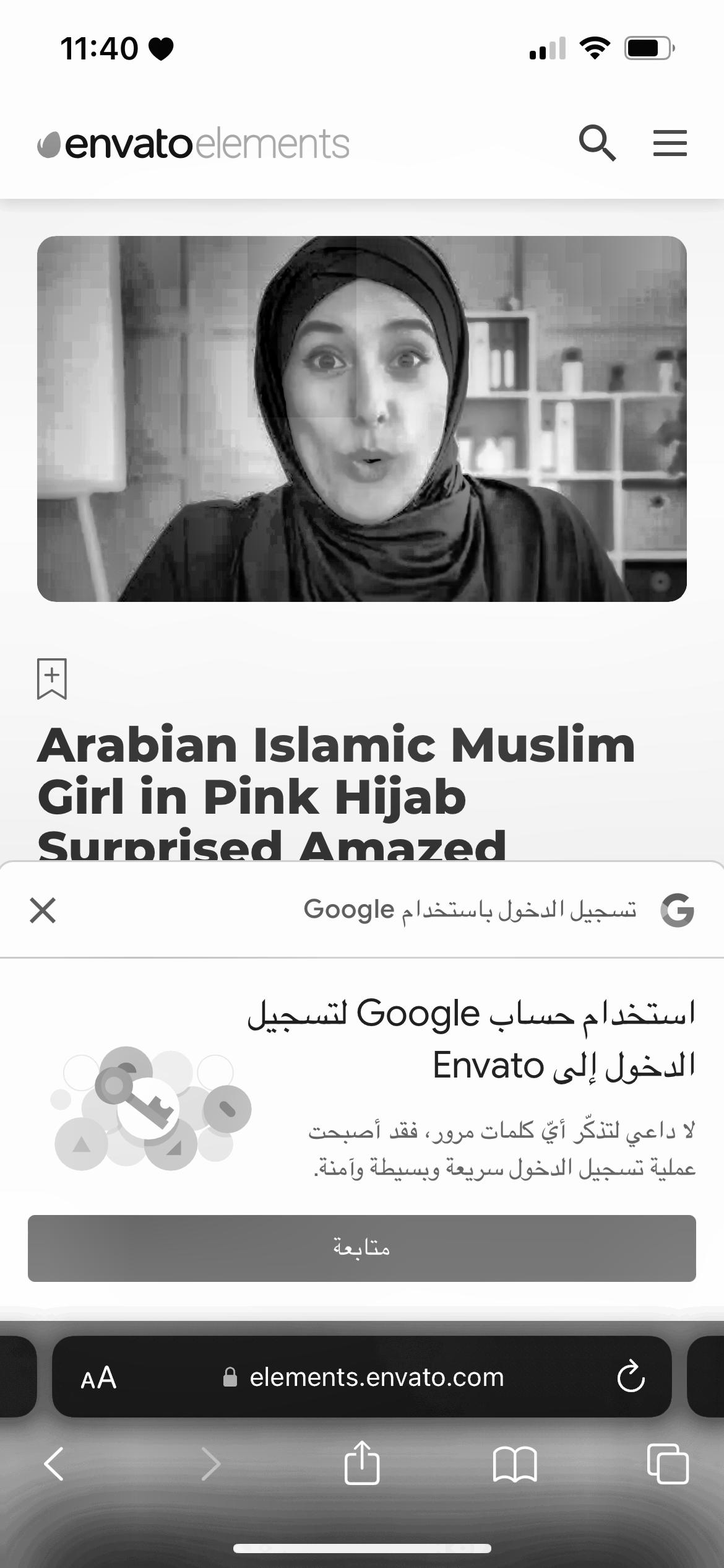surprised: (306, 293, 441, 516)
